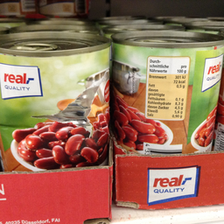beans: (1, 30, 109, 172), (112, 31, 221, 159)
